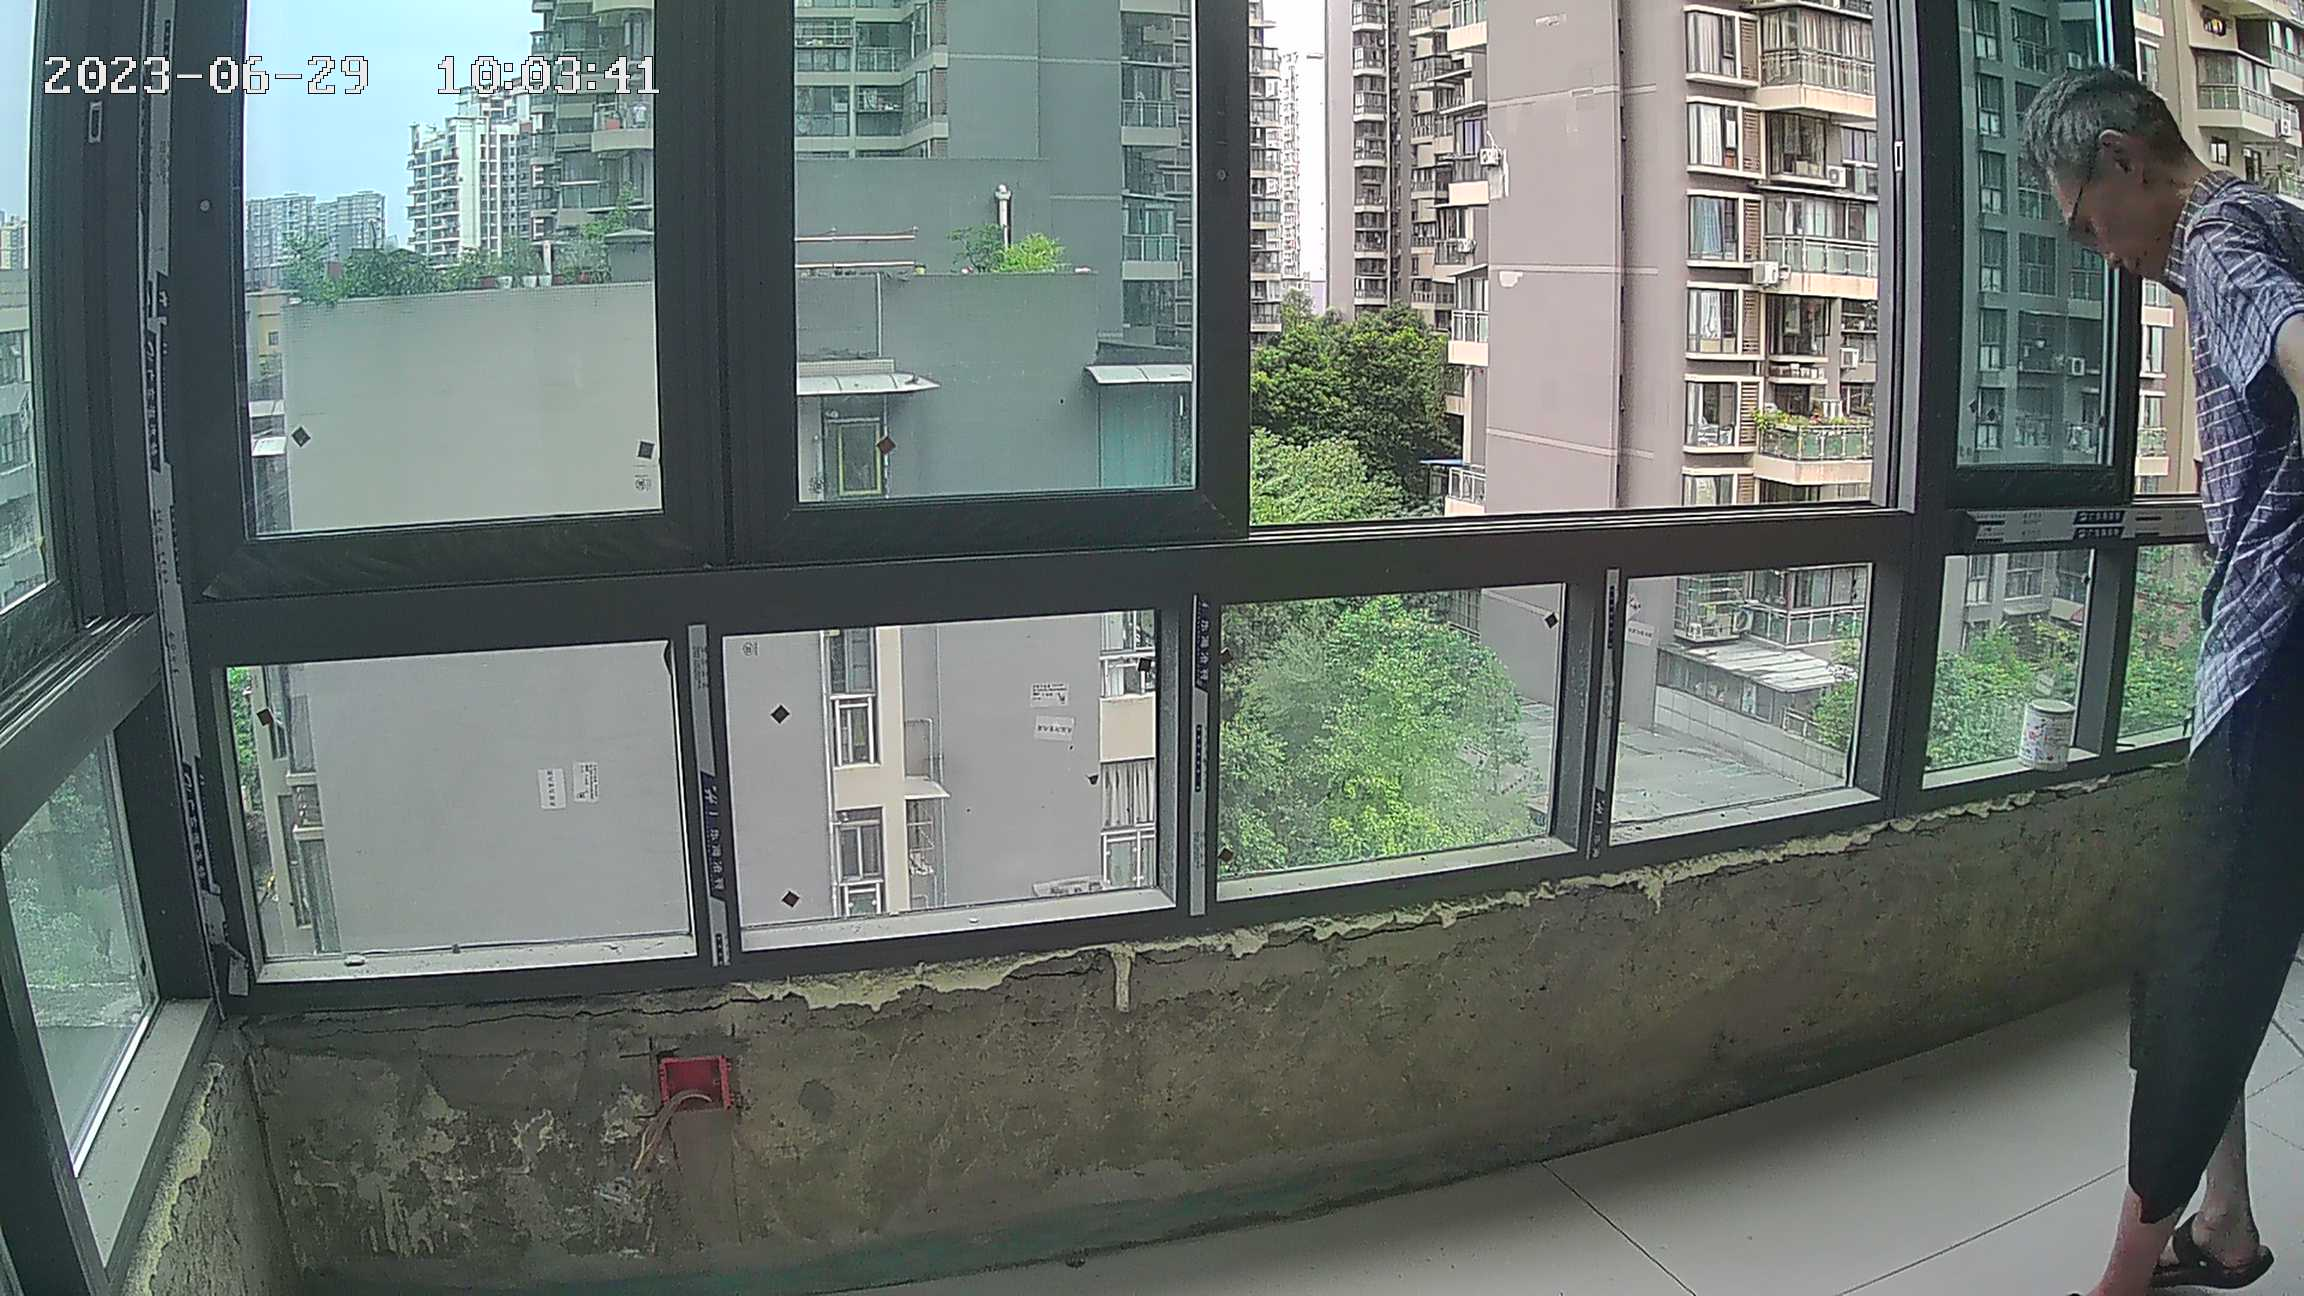people: (2016, 61, 2304, 1283)
window: (221, 11, 2304, 984)
